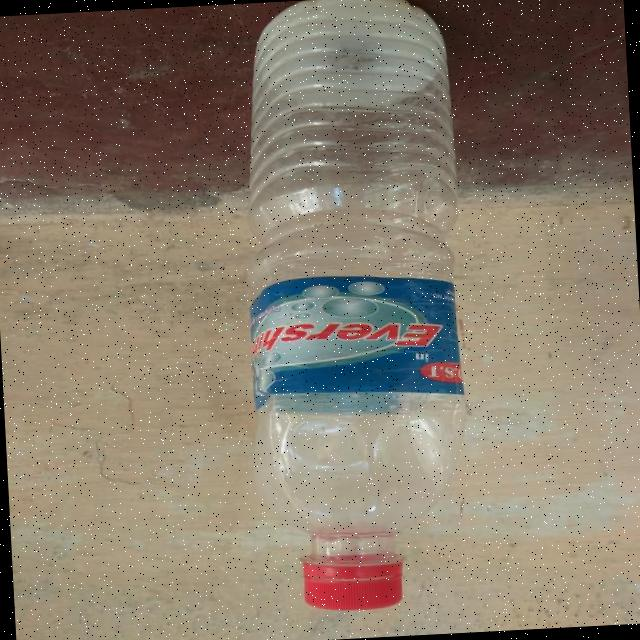bottle: (220, 0, 494, 624)
cap: (295, 539, 409, 616)
label: (225, 270, 468, 401)
